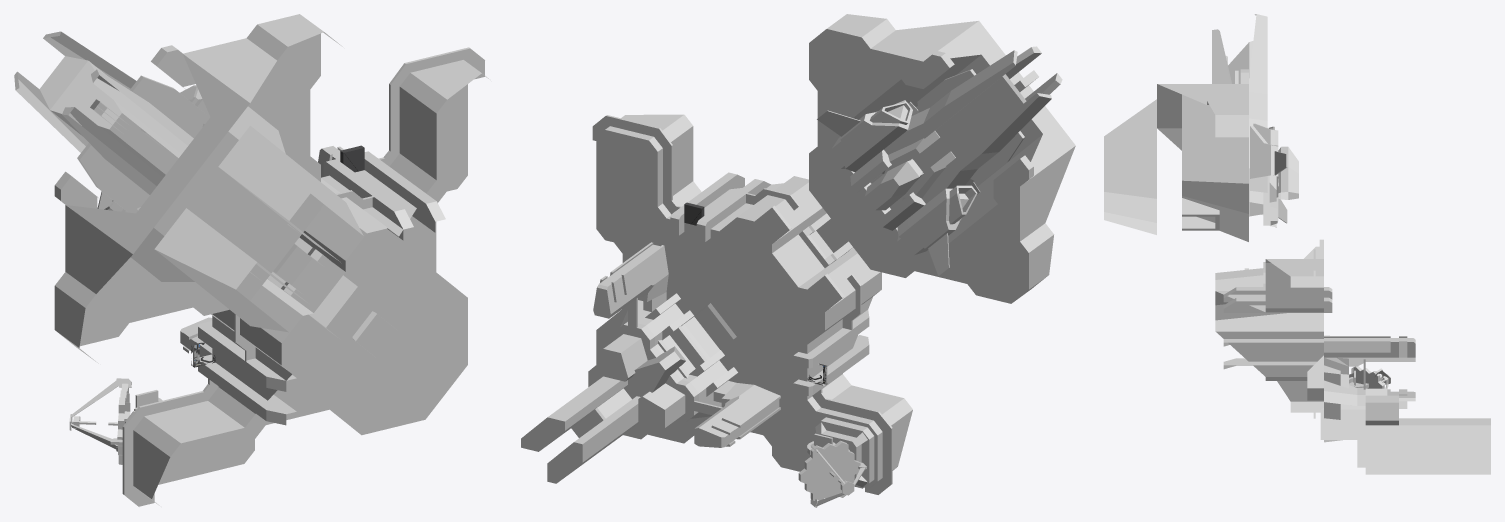
Rendered from Territory_MainBlock.fbx.
The picture shows the model from 3 angles, left to right: view 1: azimuth 30°, elevation 25°; view 2: azimuth 150°, elevation 25°; view 3: azimuth 270°, elevation 25°; orthographic projection. The views are drawn at different scales.
Parts seen in each view (by area): view 1: MainBlock_Ground, LightBringer_Ground, LightBringer, Telescope, CommandCenter, Elevator_1_Model; view 2: MainBlock_Ground, LightBringer_Ground, CommandCenter, LightBringer, Telescope, Cliff2, Cliff1; view 3: LightBringer_Ground, CommandCenter, MainBlock_Ground, LightBringer, Telescope.
Part boxes in pixels (<box>): MainBlock_Ground: <box>122,47,488,506</box>; LightBringer_Ground: <box>54,14,363,363</box>; LightBringer: <box>14,31,210,213</box>; Telescope: <box>69,378,162,464</box>; CommandCenter: <box>180,146,396,357</box>; Elevator_1_Model: <box>340,145,364,172</box>; MainBlock_Ground: <box>592,114,912,494</box>; LightBringer_Ground: <box>809,14,1075,303</box>; CommandCenter: <box>521,242,780,483</box>; LightBringer: <box>817,46,1062,276</box>; Telescope: <box>798,417,874,507</box>; Cliff2: <box>754,205,791,243</box>; Cliff1: <box>807,273,844,311</box>; LightBringer_Ground: <box>1104,69,1248,241</box>; CommandCenter: <box>1320,336,1490,474</box>; MainBlock_Ground: <box>1215,249,1332,418</box>; LightBringer: <box>1212,14,1298,227</box>; Telescope: <box>1349,366,1390,388</box>.
Bounding box in the file's own units: 48.17 × 48.17 × 46.34.
